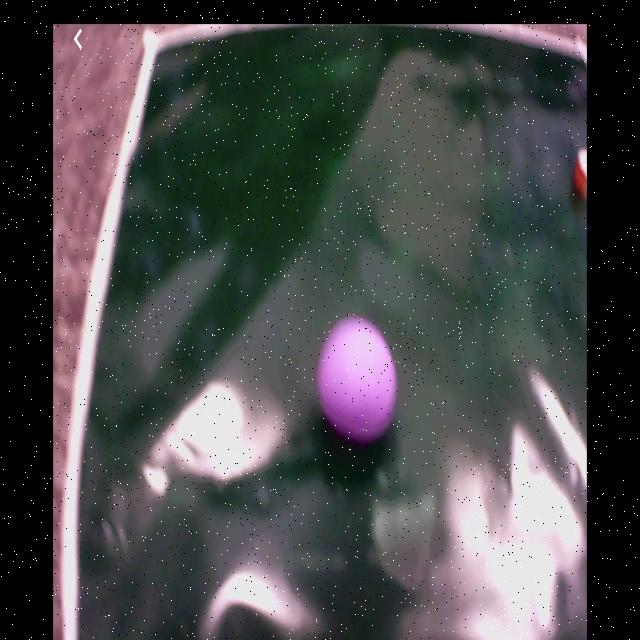ball: (319, 319, 398, 439)
